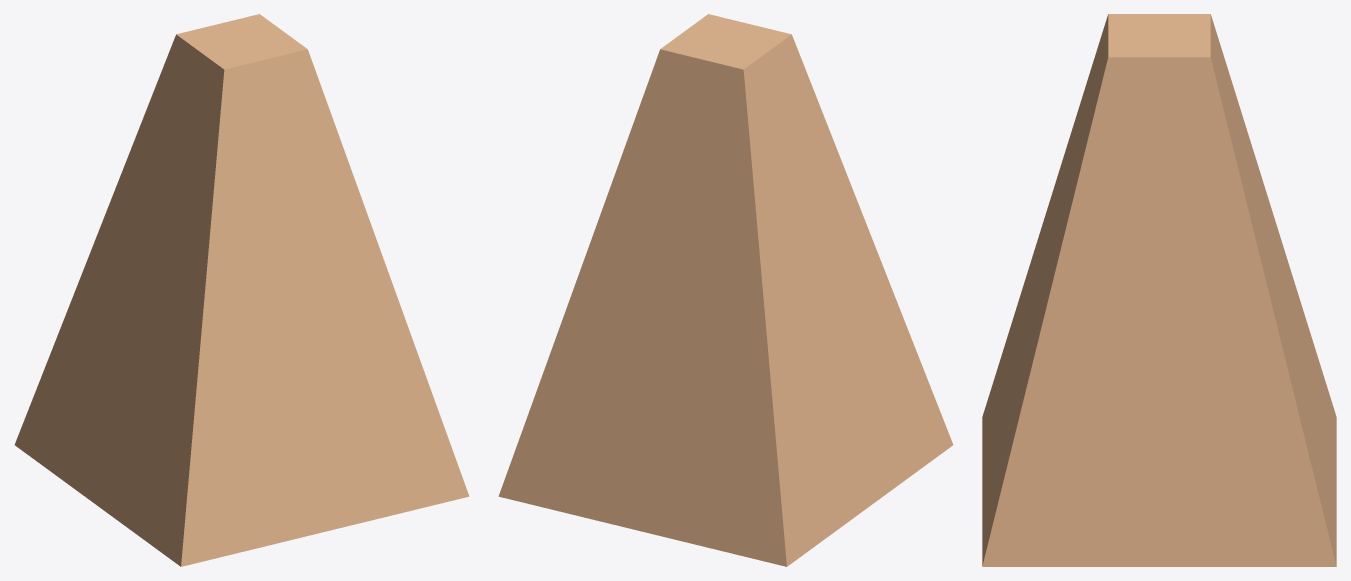
File: pawn_white.fbx
3 renders of one model, left to right at view 1: azimuth 30°, elevation 25°; view 2: azimuth 150°, elevation 25°; view 3: azimuth 270°, elevation 25°, orthographic. The views are drawn at different scales.
Parts seen in each view (by area): view 1: Cube.018; view 2: Cube.018; view 3: Cube.018.
Part boxes in pixels (box(x1,y1,x2,y2)): Cube.018: box(14, 14, 469, 566); Cube.018: box(498, 14, 953, 566); Cube.018: box(982, 14, 1336, 566).
Size of the model in its own units: 2.8 by 3.97 by 2.8.
